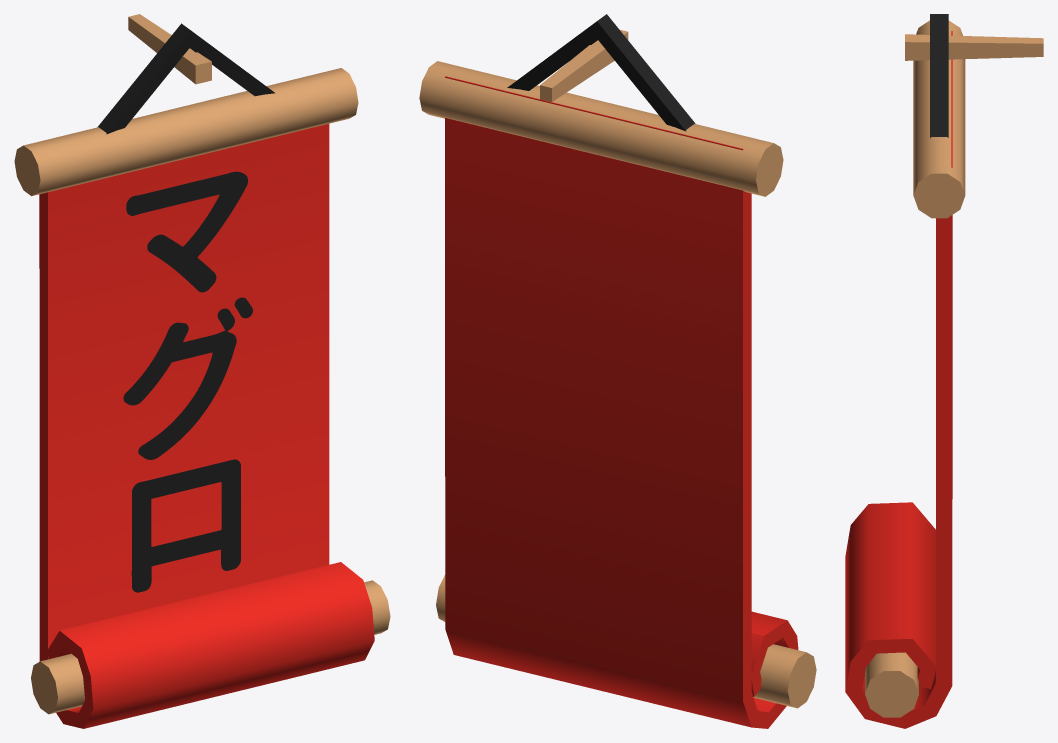
Rendered from Decoration_Sign_3.fbx.
3 renders of one model, left to right at view 1: azimuth 30°, elevation 25°; view 2: azimuth 150°, elevation 25°; view 3: azimuth 270°, elevation 25°, orthographic. The views are drawn at different scales.
Visible parts, largest first — view 1: Decoration_Sign_3; view 2: Decoration_Sign_3; view 3: Decoration_Sign_3.
Part boxes in pixels (x1,y1,x2,y2): Decoration_Sign_3: [14, 14, 390, 728]; Decoration_Sign_3: [419, 14, 816, 728]; Decoration_Sign_3: [845, 14, 1043, 728].
Size of the model in its own units: 167 by 312 by 86.73.
